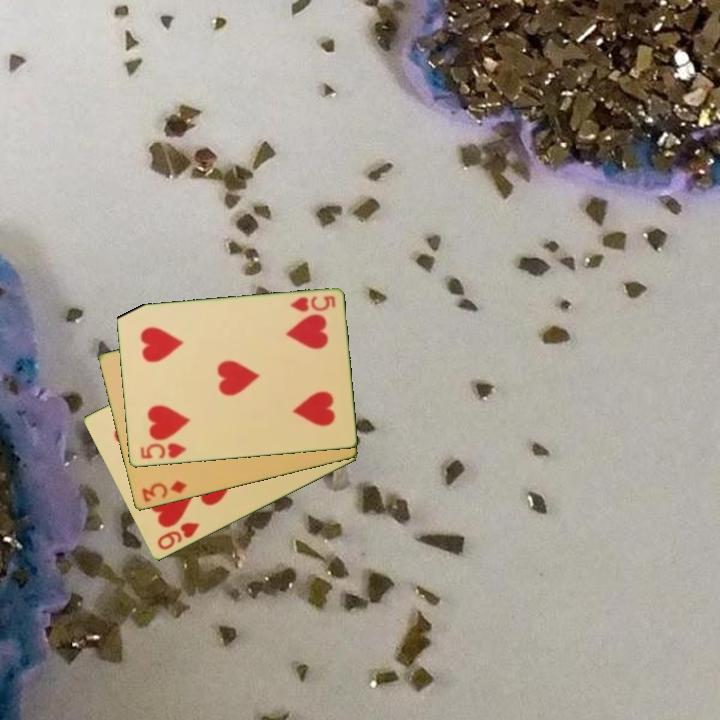3d: (138, 477, 190, 505)
5h: (136, 439, 189, 462), (286, 292, 338, 315)
9h: (153, 519, 203, 553)
